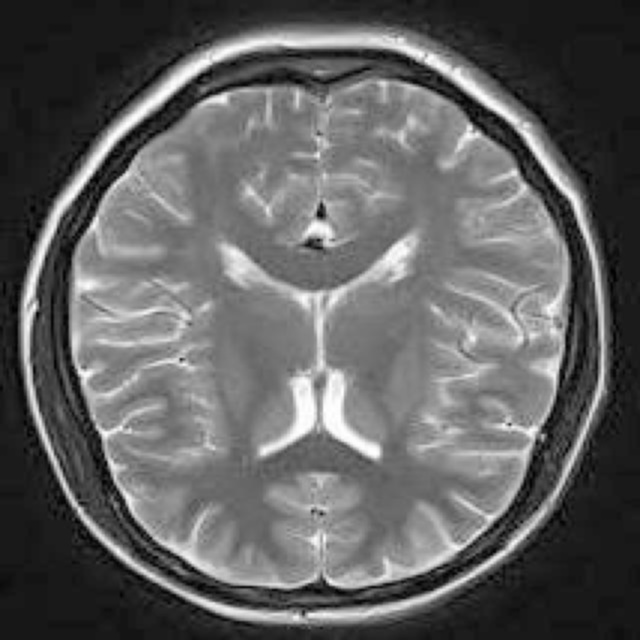glioma tumor: (120, 136, 490, 540)
